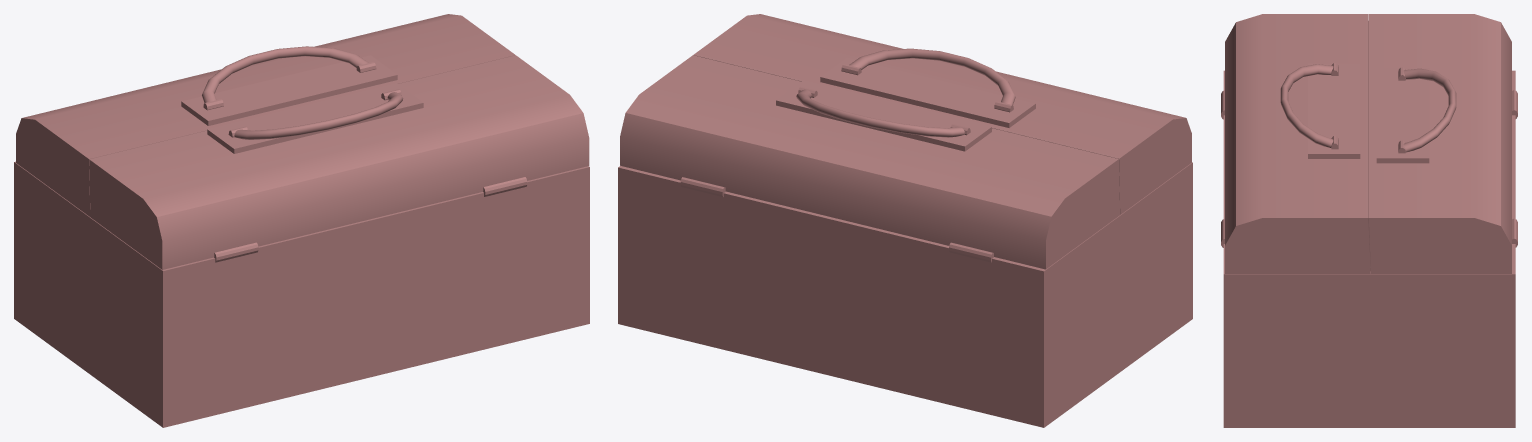
File: Medical_Box.fbx
3 views of the same model, side by side, from view 1: azimuth 30°, elevation 25°; view 2: azimuth 150°, elevation 25°; view 3: azimuth 270°, elevation 25° (orthographic). The views are drawn at different scales.
Parts seen in each view (by area): view 1: Container, Lid (×2), Brace (×2), Handle (×2); view 2: Container, Lid (×2), Brace (×2), Handle (×2); view 3: Lid (×2), Container, Brace (×2), Handle (×2).
Part boxes in pixels (x1,y1,x2,y2): Container: (14,161,589,427); Lid (×2): (16,14,589,269); Brace (×2): (181,55,423,153); Handle (×2): (202,46,403,139); Container: (618,162,1192,427); Lid (×2): (620,14,1191,269); Brace (×2): (776,57,1035,151); Handle (×2): (796,48,1015,137); Lid (×2): (1225,14,1511,273); Container: (1223,70,1515,427); Brace (×2): (1308,63,1429,163); Handle (×2): (1280,64,1456,152).
Size of the model in its own units: 0.4815 by 0.2551 by 0.2961.
